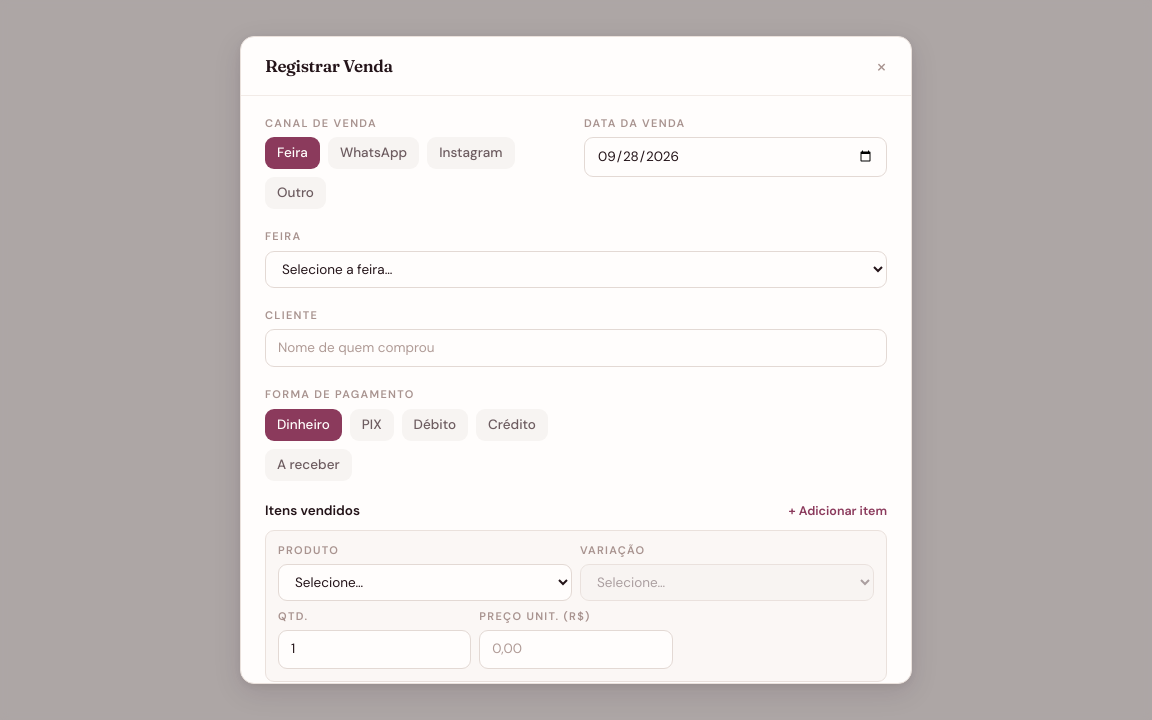
Scenario: SaleForm: cliente › should_require_the_customer_for_a_receivable_sale
This screenshot has width=1152, height=720.
Expected: the dropdown labelled "Produto" is shown, [278, 564, 572, 601]
Click the button "WhatsApp": (374, 153) [328, 137, 419, 169]
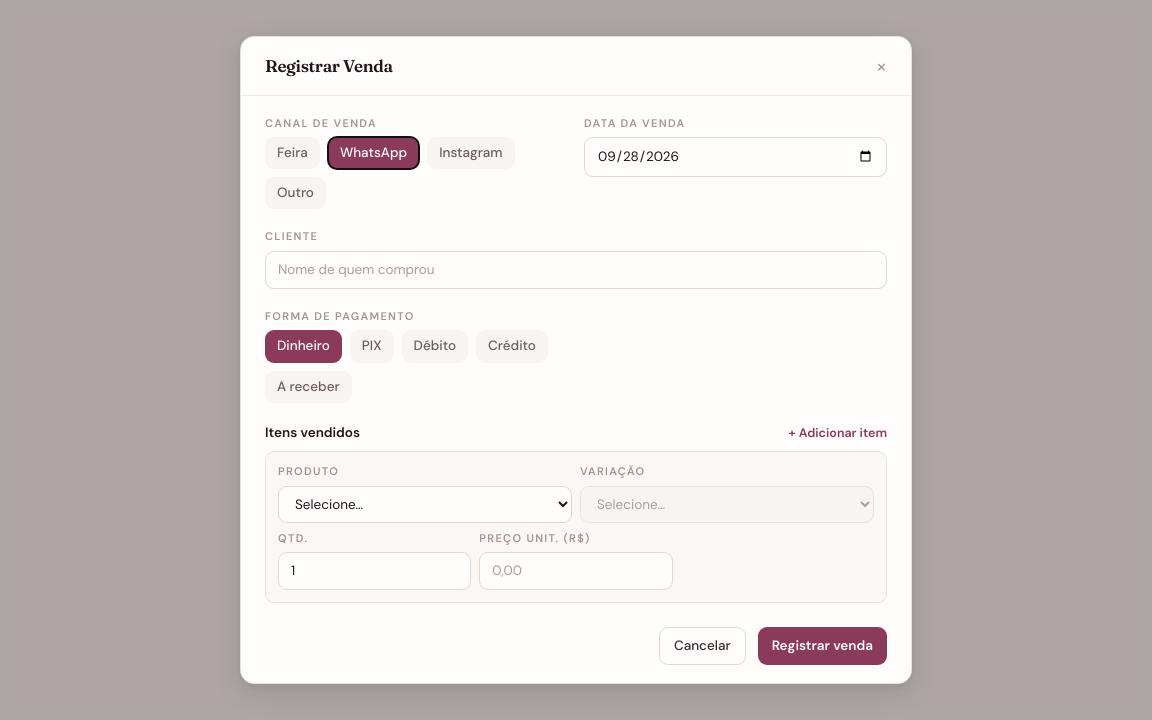
Select "Colar Aurora" in the dropdown labelled "Produto": (425, 504) [278, 486, 572, 523]
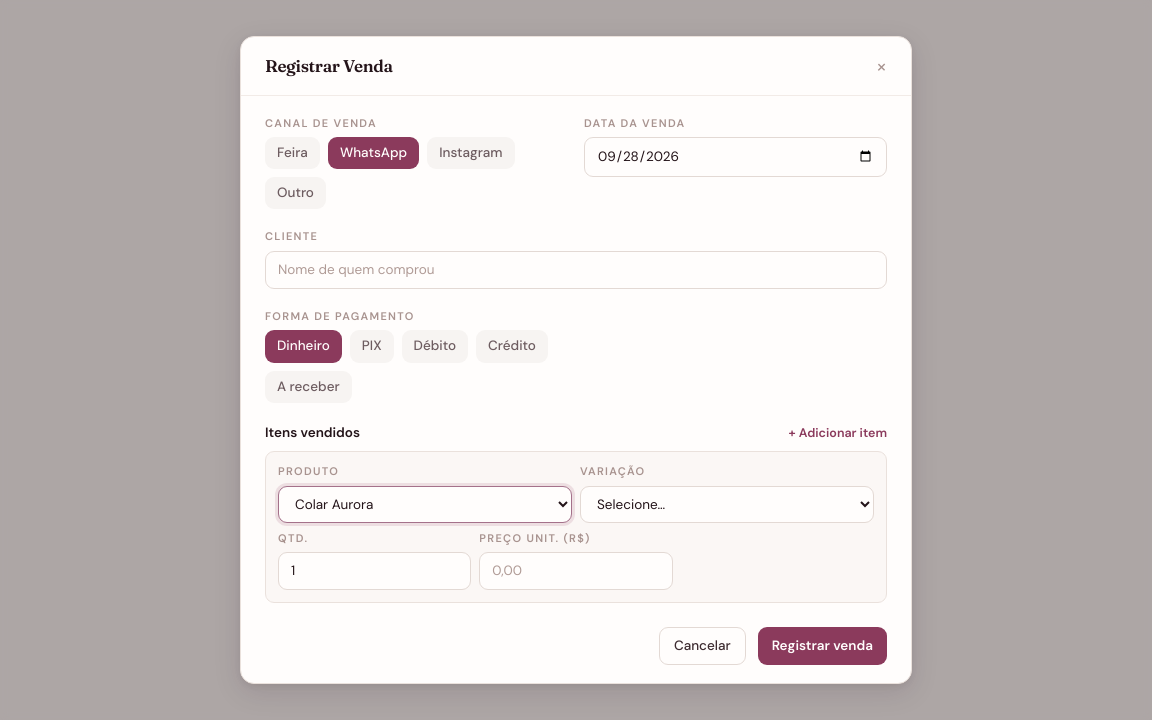
Select "Rosa (estoque: 4)" in the dropdown labelled "Variação": (727, 504) [580, 486, 874, 523]
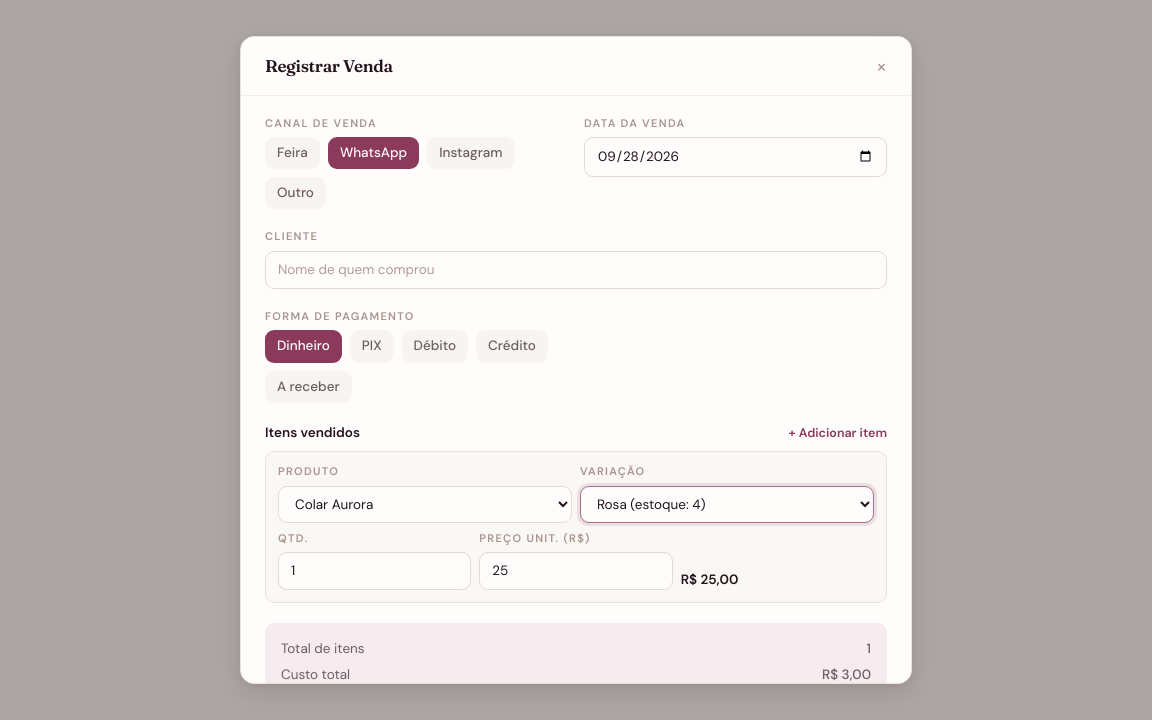
Click the button "A receber": (308, 387) [265, 371, 352, 403]
(page scrolled)
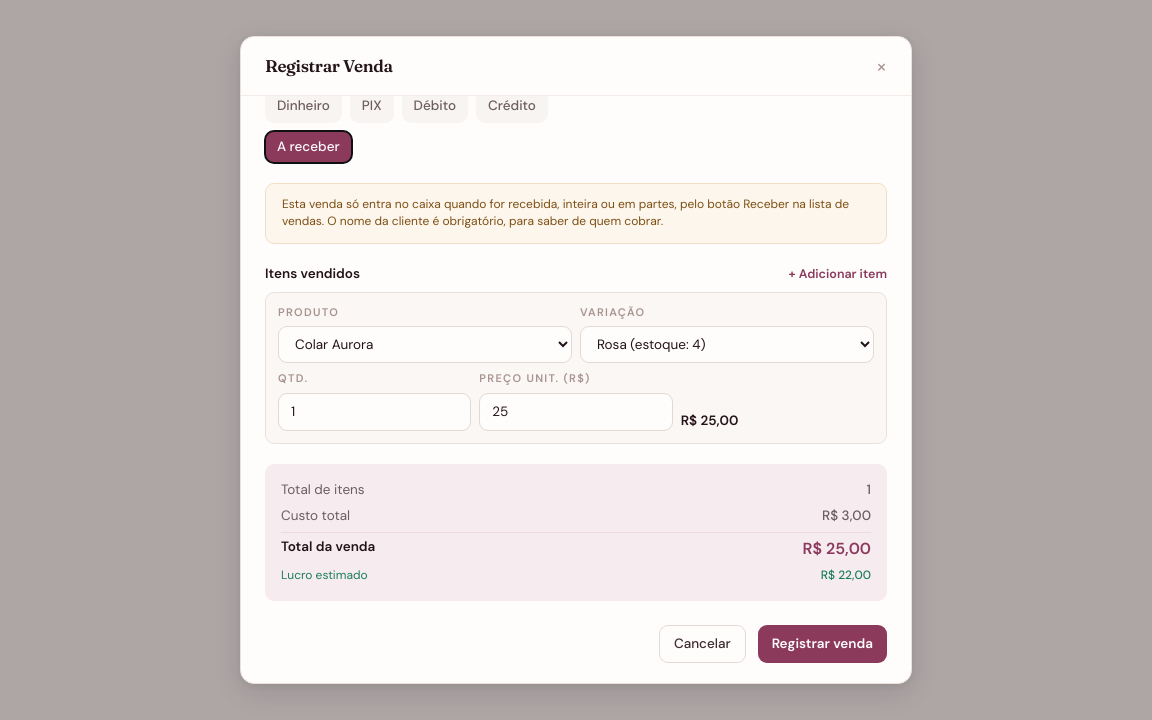
Click the button "Registrar venda": (822, 644) [758, 625, 887, 663]
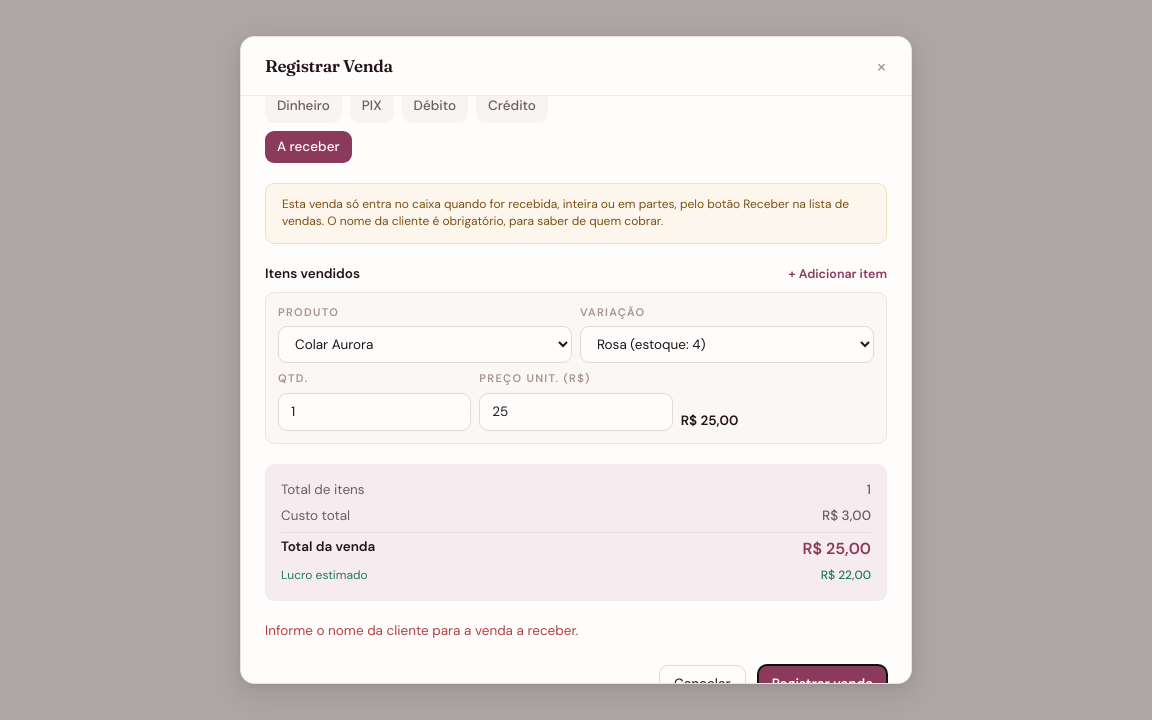
Result: the text "Informe o nome da cliente para a venda a receber." is shown at [265, 622, 578, 639]
